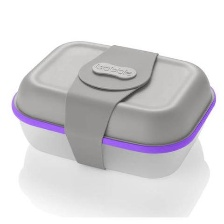plastic_box: (5, 32, 219, 183)
